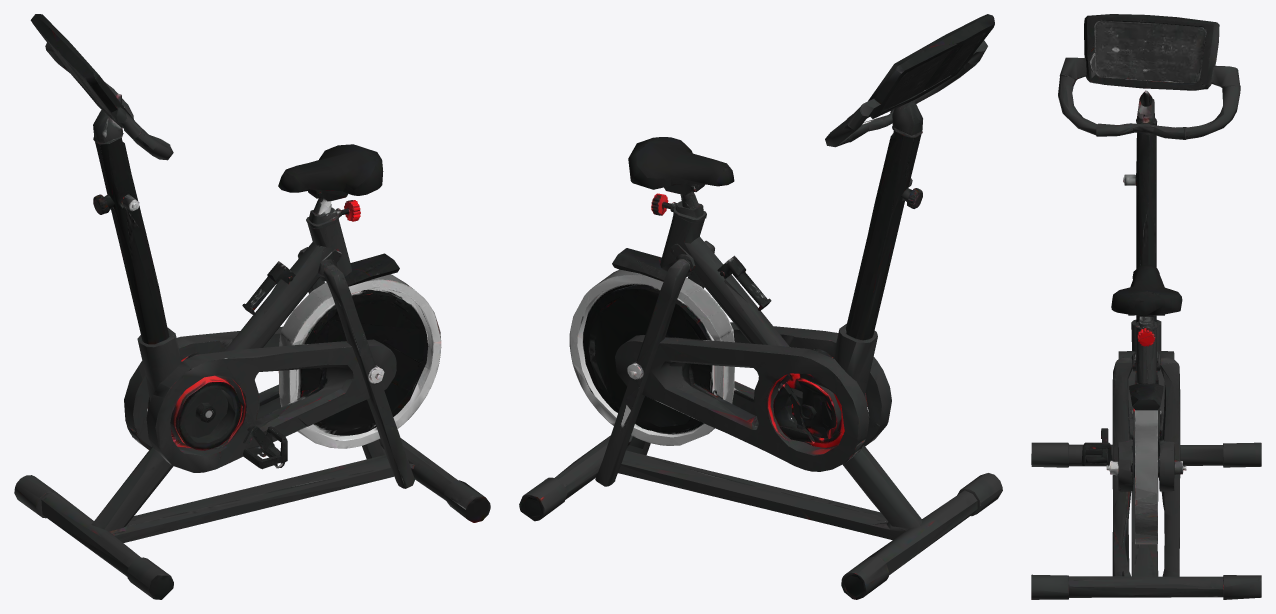
Rendered from exercise-bike-v1.glb.
3 renders of one model, left to right at view 1: azimuth 30°, elevation 25°; view 2: azimuth 150°, elevation 25°; view 3: azimuth 270°, elevation 25°, orthographic. The views are drawn at different scales.
Bounding box in the file's own units: 1.25 × 1.61 × 0.7652.
1 material, 1 textured.
